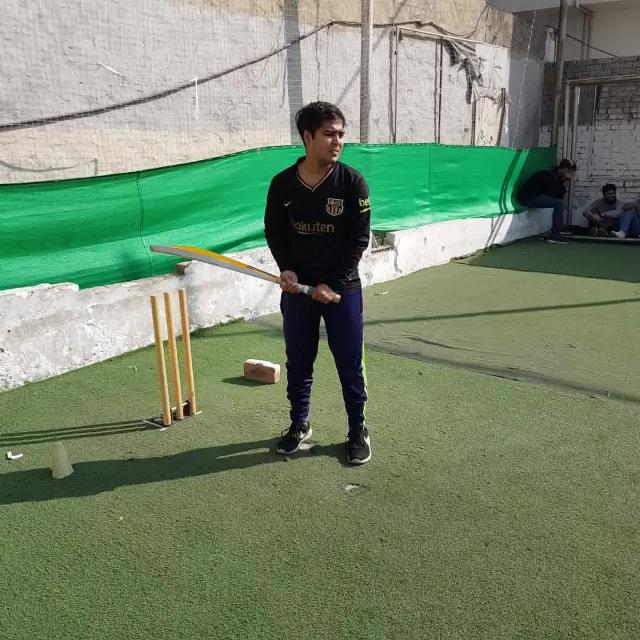bat: (151, 244, 341, 304)
